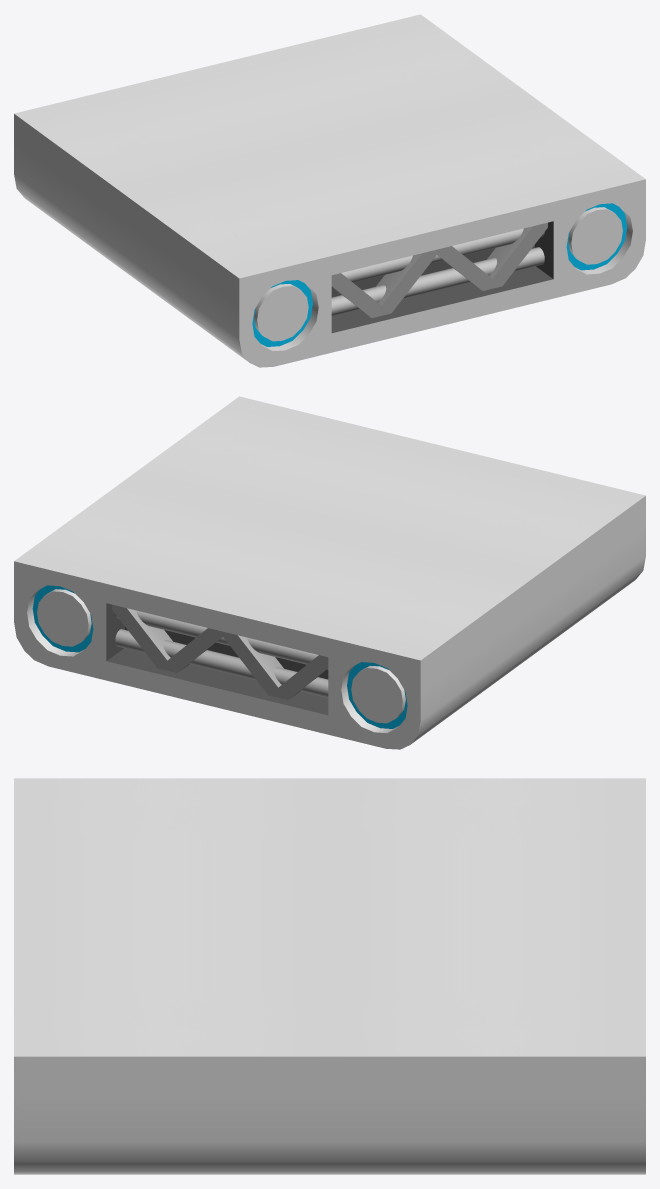
File: Floor11_A.fbx
3 renders of one model, top to bottom at view 1: azimuth 30°, elevation 25°; view 2: azimuth 150°, elevation 25°; view 3: azimuth 270°, elevation 25°, orthographic. The views are drawn at different scales.
Parts seen in each view (by area): view 1: pCube1, pCube9, pCylinder1, pCylinder2; view 2: pCube1, pCube9, pCylinder1, pCylinder2; view 3: pCube1.
Boxes of the visible parts, left/top/right/bottom form: pCube1: left=14, top=14, right=645, bottom=367; pCube9: left=331, top=222, right=547, bottom=317; pCylinder1: left=331, top=247, right=544, bottom=315; pCylinder2: left=331, top=228, right=544, bottom=287; pCube1: left=14, top=396, right=645, bottom=749; pCube9: left=112, top=604, right=328, bottom=699; pCylinder1: left=115, top=629, right=328, bottom=697; pCylinder2: left=115, top=610, right=328, bottom=669; pCube1: left=14, top=778, right=645, bottom=1174.
Size of the model in its own units: 13.76 by 3.13 by 13.2.
